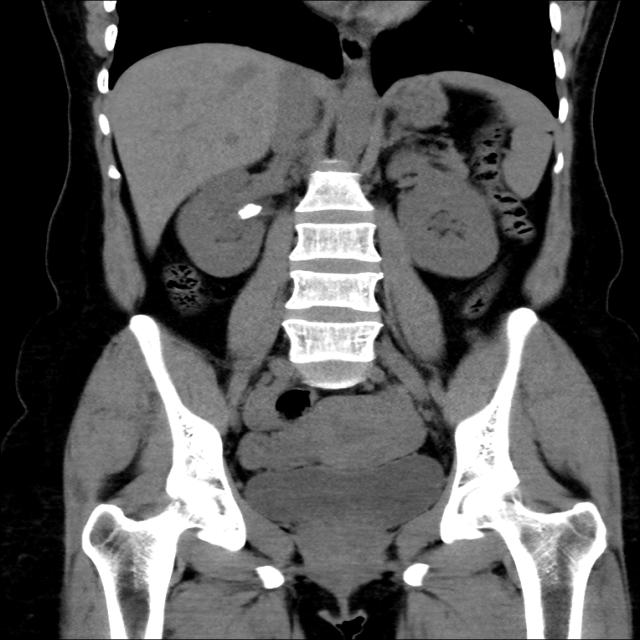kidneystone: (238, 204, 262, 219)
